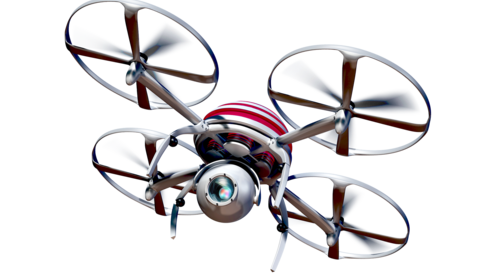drone: (60, 1, 433, 263)
